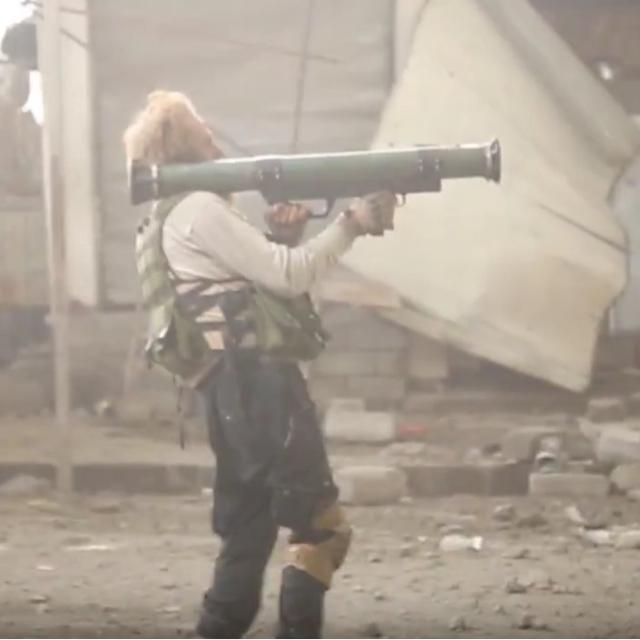bazooka: (107, 124, 528, 207)
